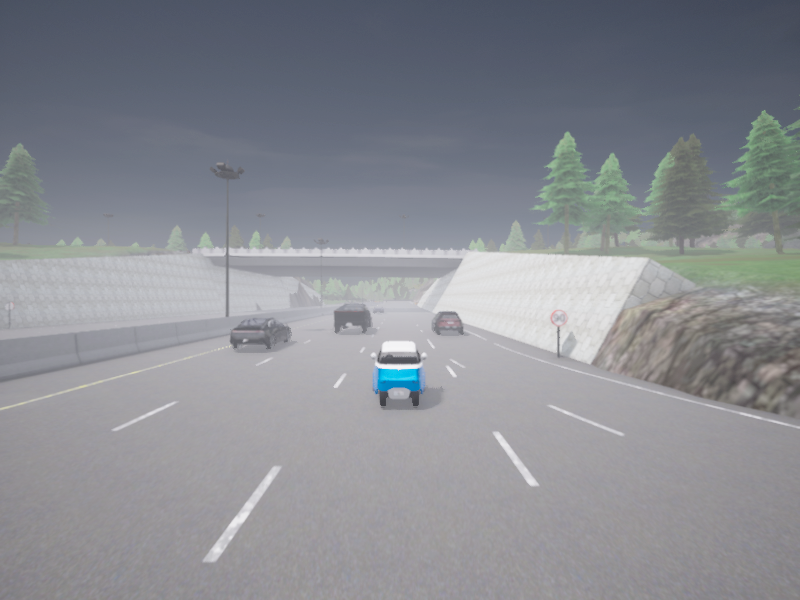vehicle: (370, 341, 426, 406), (229, 317, 290, 349), (334, 304, 371, 332), (432, 311, 463, 334), (373, 306, 384, 313)
